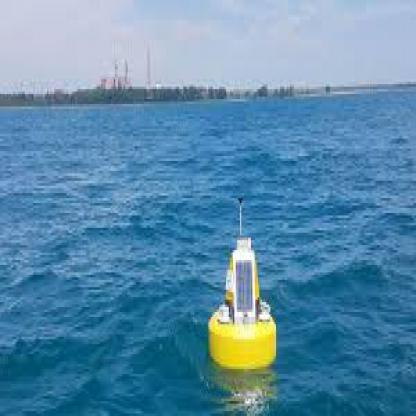buoy: (200, 188, 280, 374)
